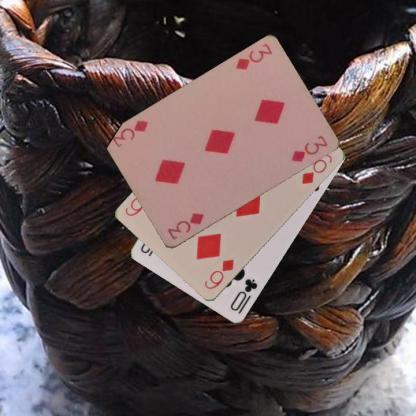10c: (228, 276, 258, 313)
3d: (164, 210, 206, 242), (233, 41, 273, 72)
6d: (202, 256, 237, 292)
